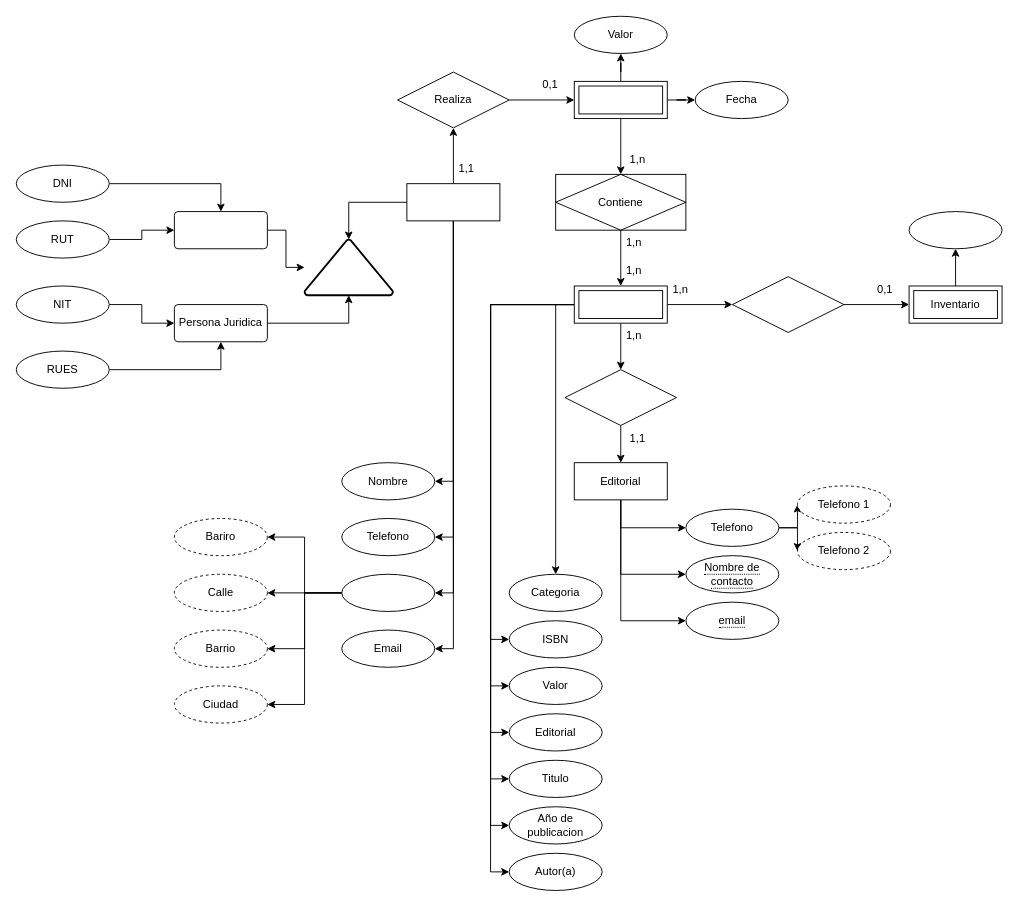
This 1018x907 diagram has some shape labels left out. The box of each missing label's shape, as (x1, y1, x2, y2) in pixels:
Cantidad: (908, 211, 1002, 249)
Cliente: (406, 183, 500, 221)
Direccion: (341, 573, 435, 611)
Existe: (731, 276, 844, 332)
Id: (303, 238, 393, 296)
Libro: (573, 285, 667, 323)
Pedido: (573, 80, 667, 119)
Persona Natural: (173, 211, 267, 249)
Pertenece: (564, 369, 677, 425)
